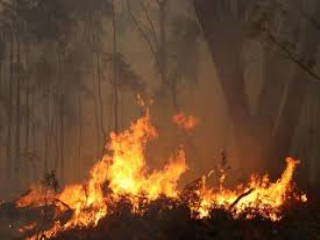fire: (29, 113, 188, 221), (194, 159, 307, 220)
